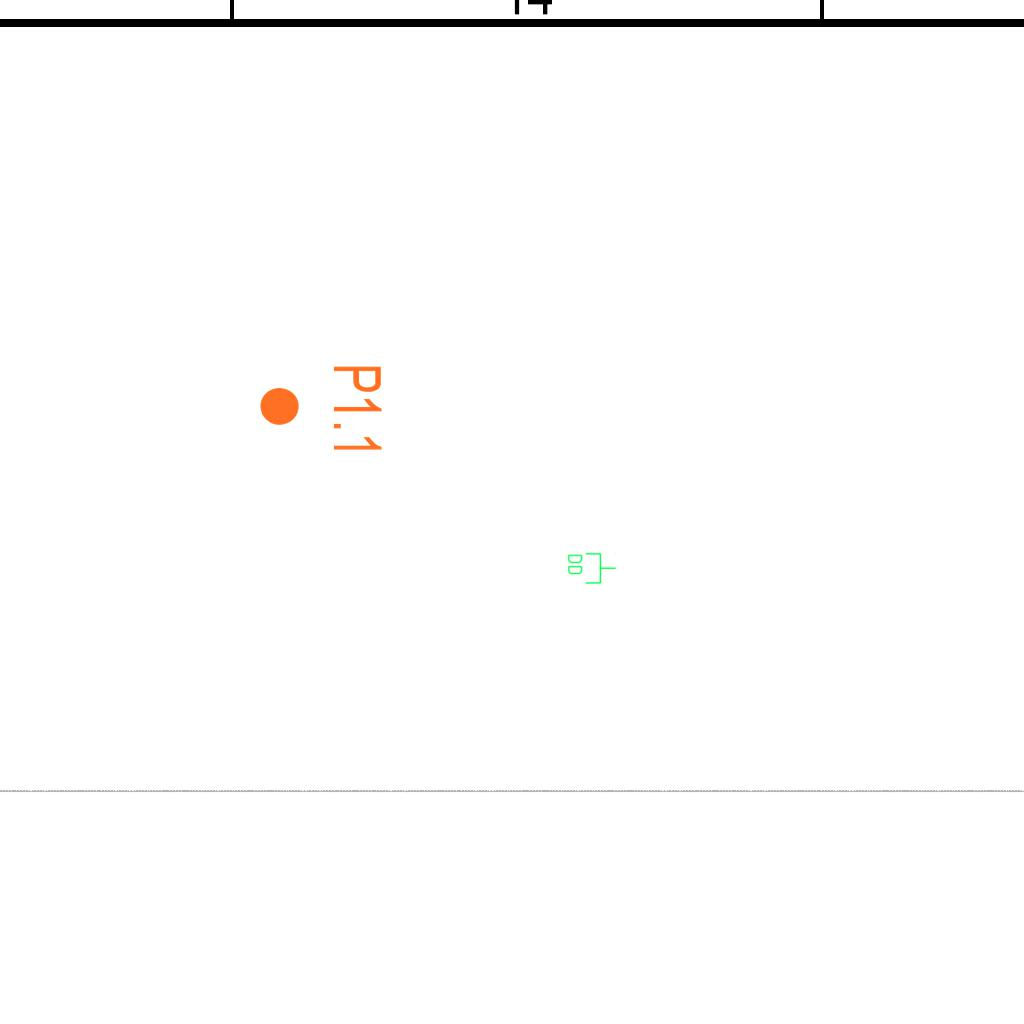Datenanschluss_zweifach: (566, 551, 617, 585)
Downlight_LED_Einbauleuchten_Flur: (257, 363, 385, 456)
